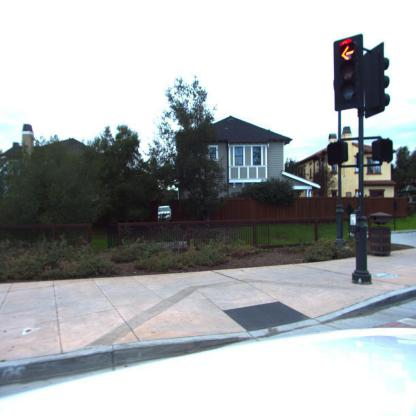car: (157, 206, 172, 221)
